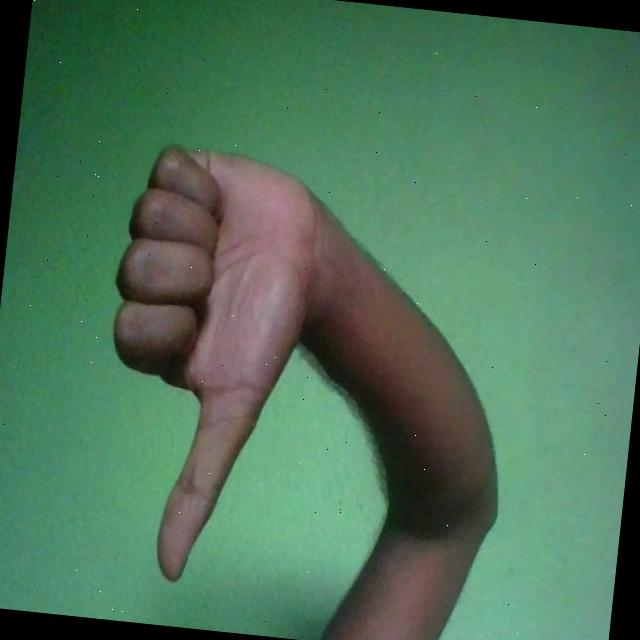Dislike: (87, 141, 336, 596)
